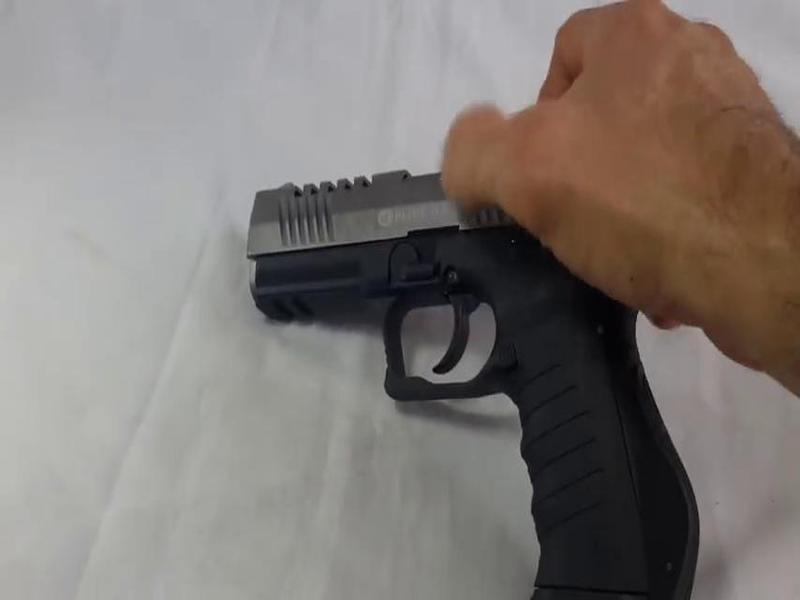Pistola: (229, 158, 728, 596)
